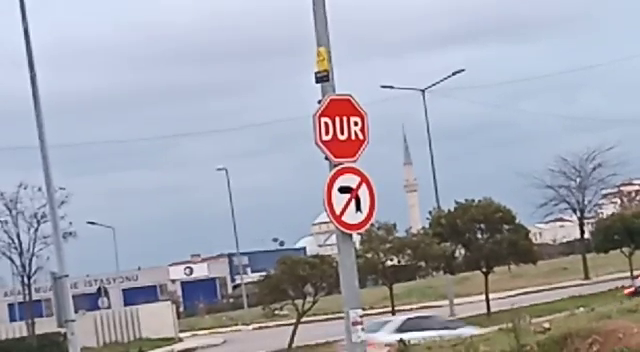no_left: (321, 162, 379, 237)
stop: (309, 90, 374, 166)
